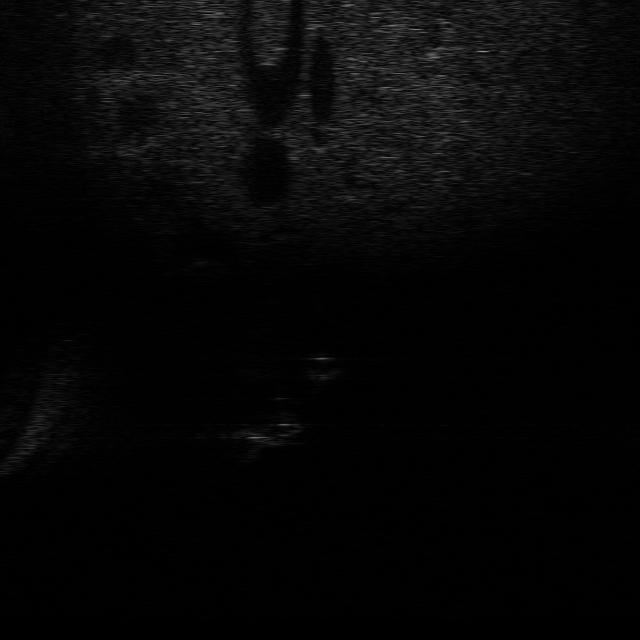ball: (291, 351, 345, 384)
square cage: (232, 426, 298, 457)
tyre: (259, 407, 305, 438)
